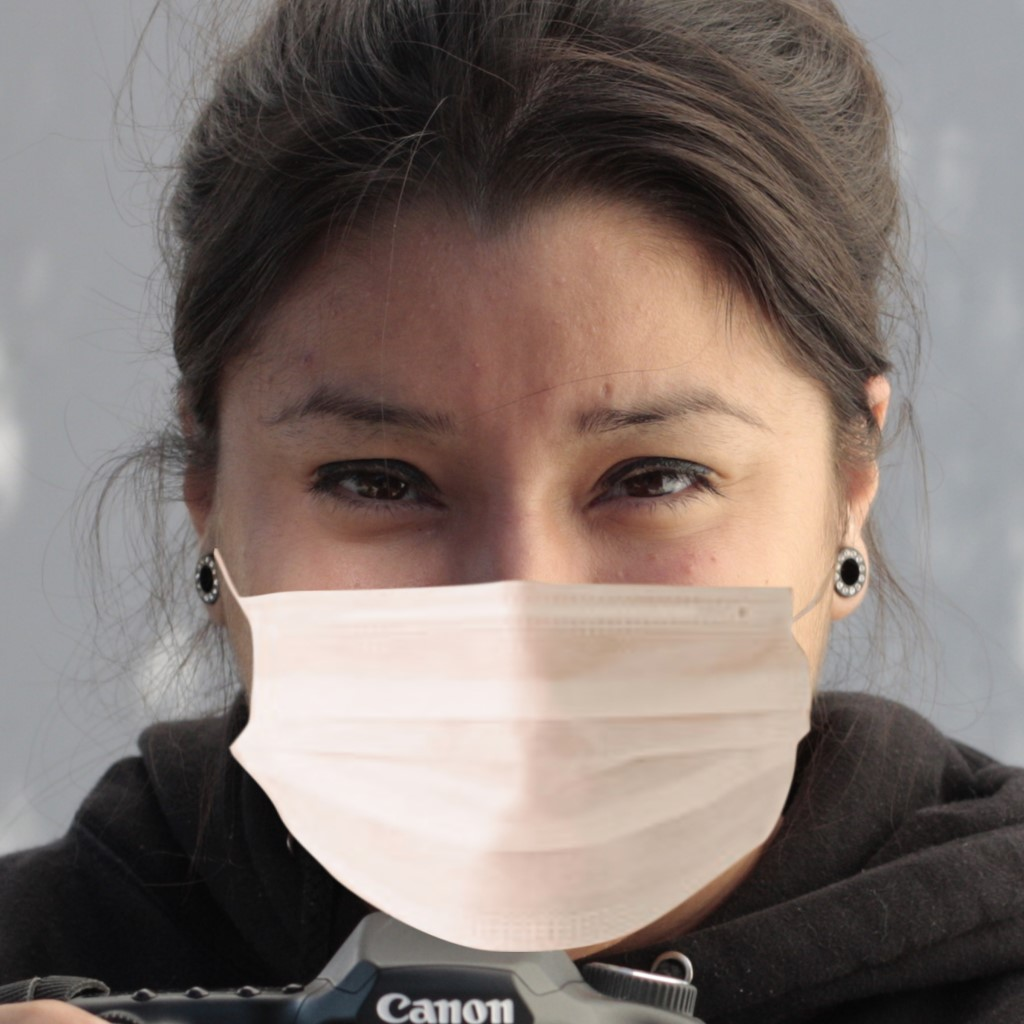con_mascara: (176, 90, 853, 898)
